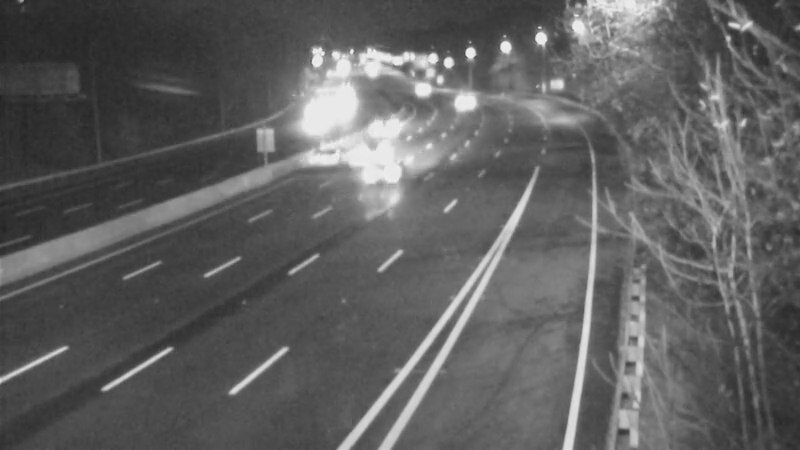vehicle: (329, 116, 409, 196), (283, 115, 363, 195), (333, 138, 413, 218), (434, 72, 484, 122), (360, 94, 410, 144), (289, 99, 339, 149)
